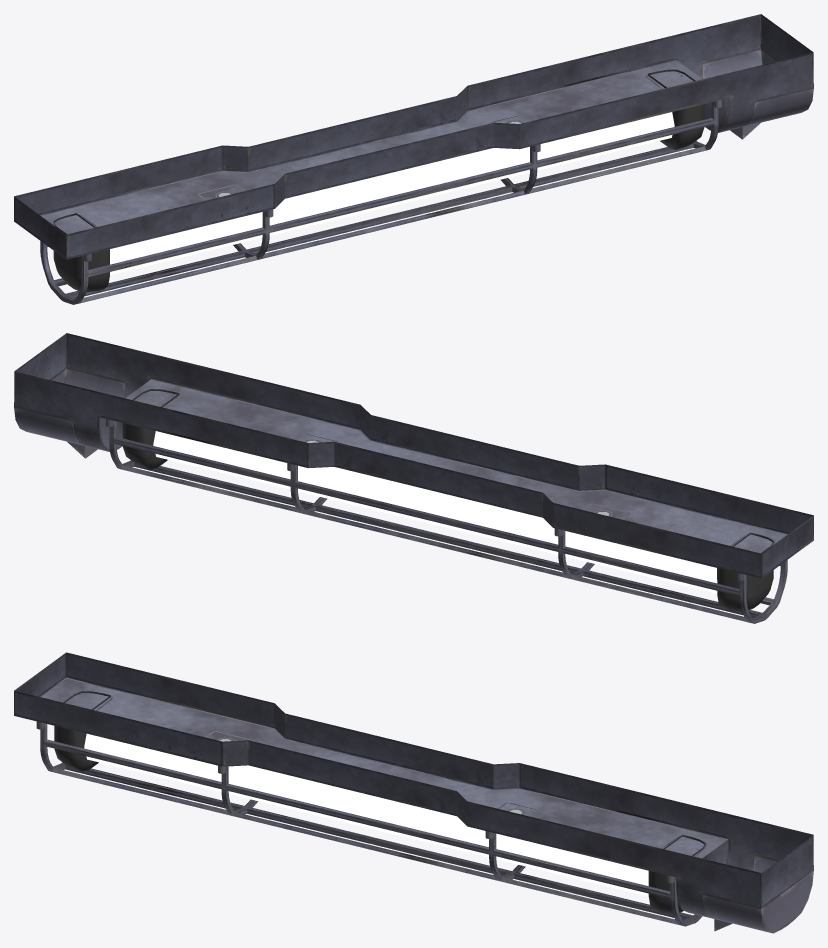
The model's file is ceiling_lamp.glb.
3 views of the same model, one above another, from view 1: azimuth 30°, elevation 25°; view 2: azimuth 150°, elevation 25°; view 3: azimuth 330°, elevation 25° (orthographic).
Visible parts, largest first — view 1: light_b; view 2: light_b; view 3: light_b.
Boxes of the visible parts, box(x1,y1,x2,y2) form: light_b: box(14, 14, 813, 304); light_b: box(14, 333, 813, 623); light_b: box(14, 652, 813, 933).
Size of the model in its own units: 1.65 by 0.1907 by 0.2027.
1 material, 1 textured.
